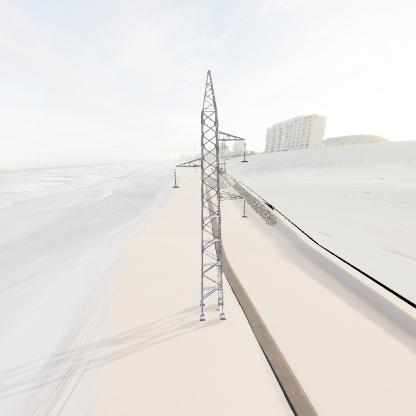tower: (171, 68, 256, 324)
